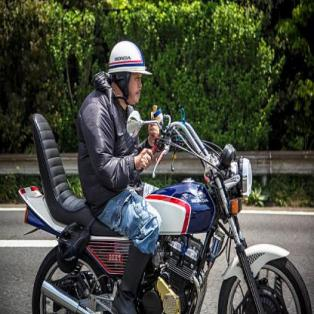Motocicleta: (10, 104, 312, 313)
